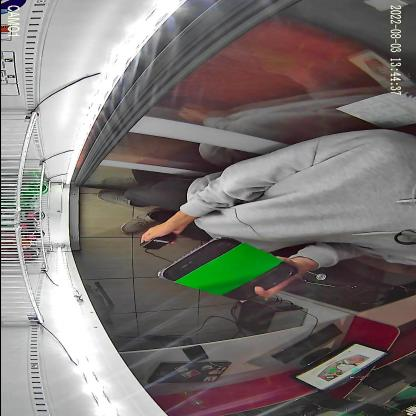green: (156, 236, 298, 302)
